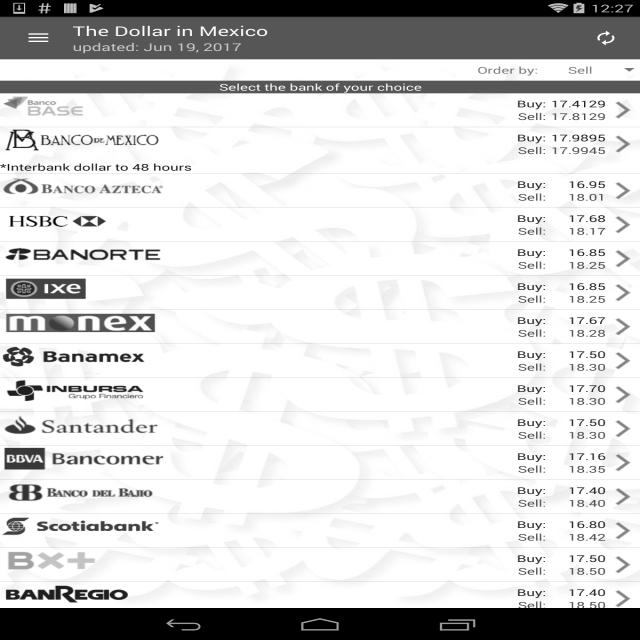ImageButton: (22, 28, 59, 48), (588, 27, 623, 48)
ImageView: (4, 124, 161, 152), (4, 310, 153, 332), (4, 278, 83, 299), (1, 443, 45, 472), (2, 480, 45, 506), (73, 209, 117, 231), (1, 342, 33, 370), (0, 176, 41, 197), (1, 378, 36, 400), (2, 514, 24, 531)
TextView: (71, 22, 275, 56), (208, 75, 422, 95), (505, 172, 615, 209), (42, 414, 167, 440), (507, 448, 620, 476), (5, 582, 142, 604), (510, 344, 613, 372), (508, 550, 613, 576), (512, 98, 606, 126), (32, 245, 162, 263), (52, 378, 168, 397), (43, 346, 171, 363), (56, 448, 170, 467), (36, 519, 159, 533), (7, 211, 68, 231)
